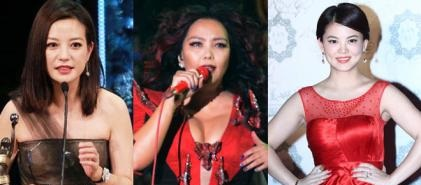face: (185, 25, 231, 88), (45, 25, 88, 83), (325, 25, 362, 72)
